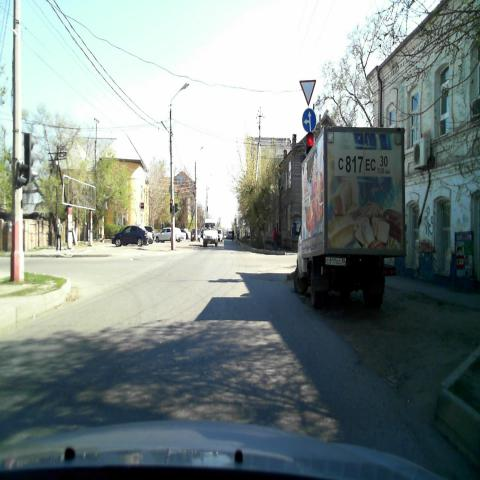2_4: (300, 78, 316, 106)
4_1_5: (301, 108, 318, 134)
